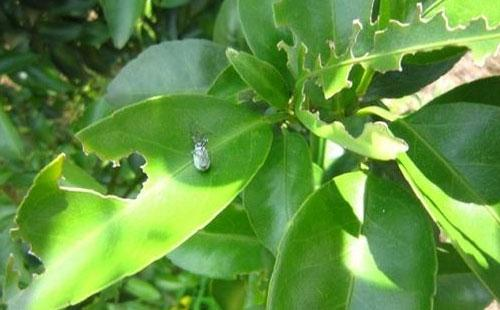Curculionidae: (189, 136, 210, 172)
